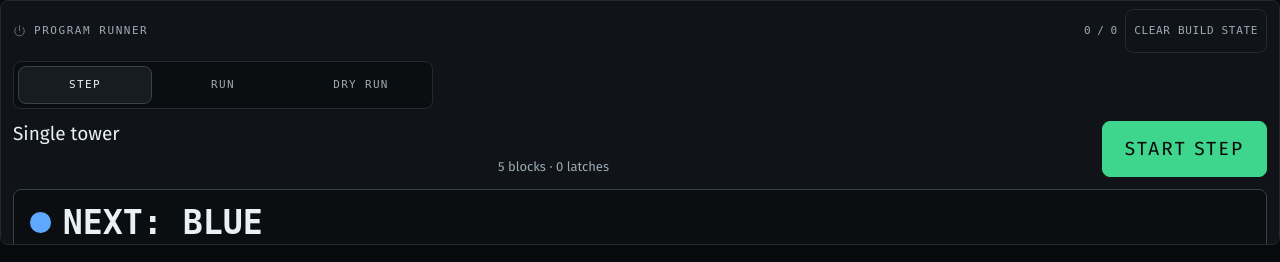
Scenario: RunnerPanel › runs the complete tower through fake transport with no serial traffic
expect the text "NEXT: BLUE" is shown: met, box [30, 203, 263, 242]
Click the button "DRY RUN": click(361, 85) [294, 66, 428, 104]
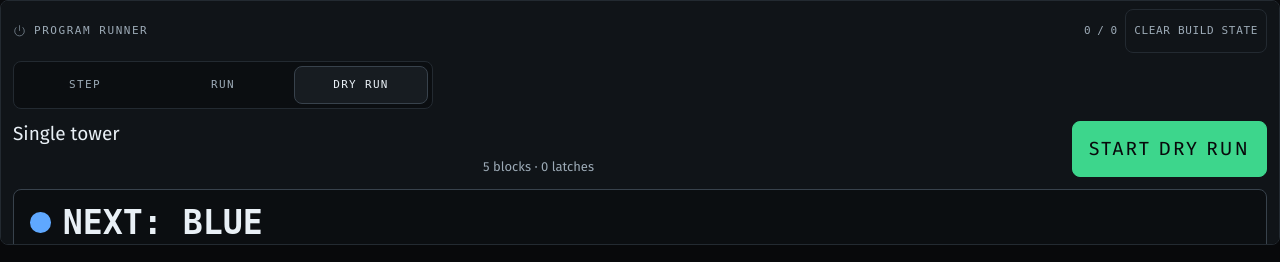
Click the button "START DRY RUN": click(1170, 149) [1072, 121, 1267, 177]
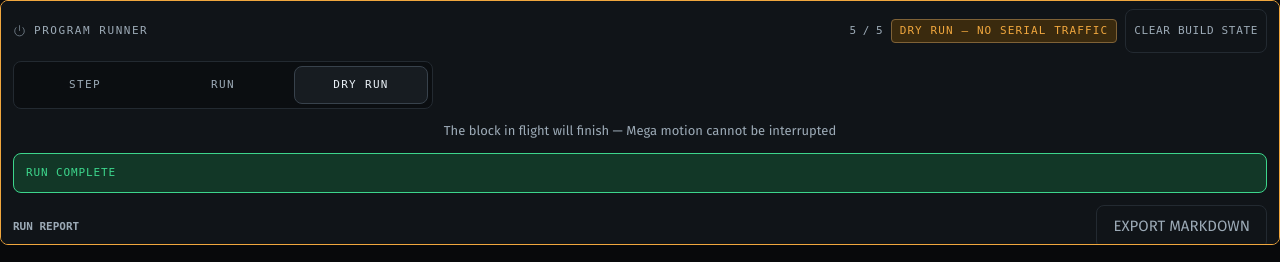
expect the button "EXPORT MARKDOWN" is enabled: met, box [1096, 205, 1267, 245]
expect the text "RUN COMPLETE" is shown: met, box [26, 166, 116, 178]
expect the text "DRY RUN — no serial traffic" is shown: met, box [891, 19, 1117, 43]
